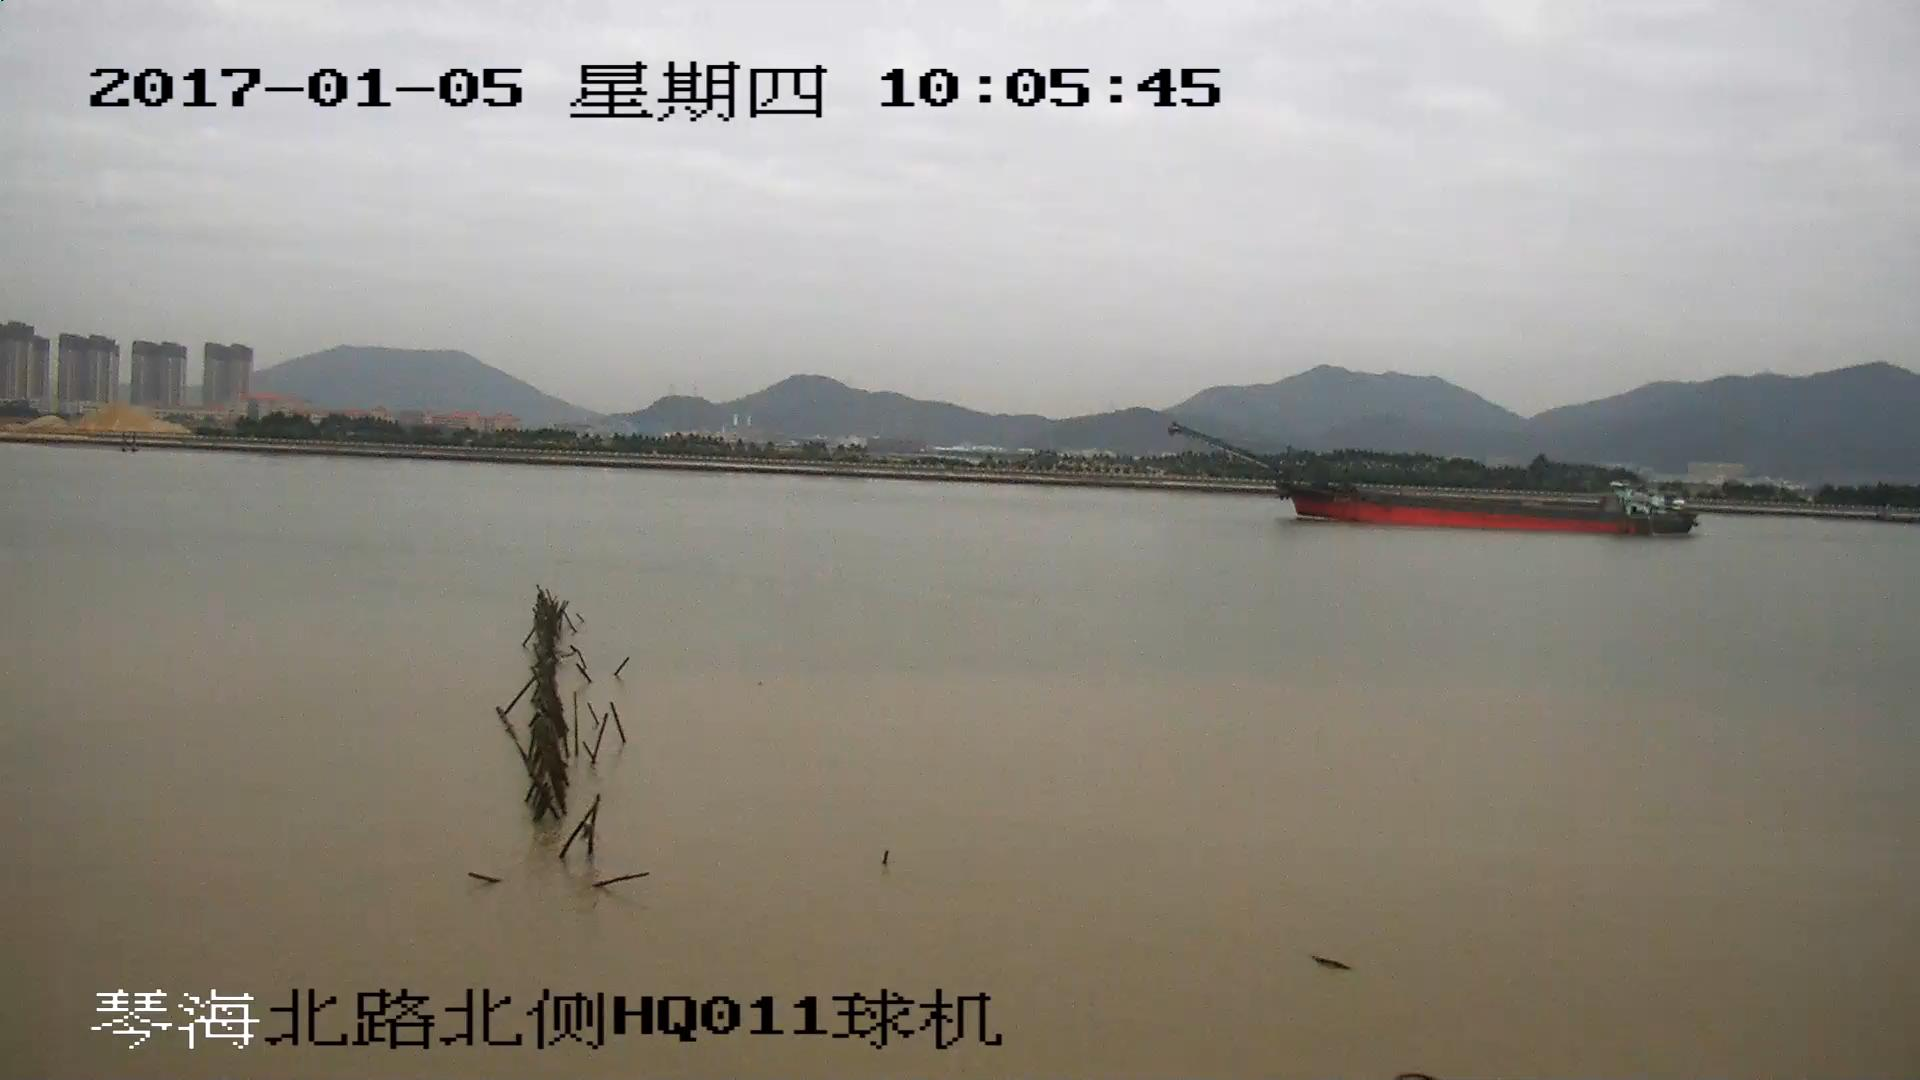bulk cargo carrier: (1175, 424, 1694, 533)
